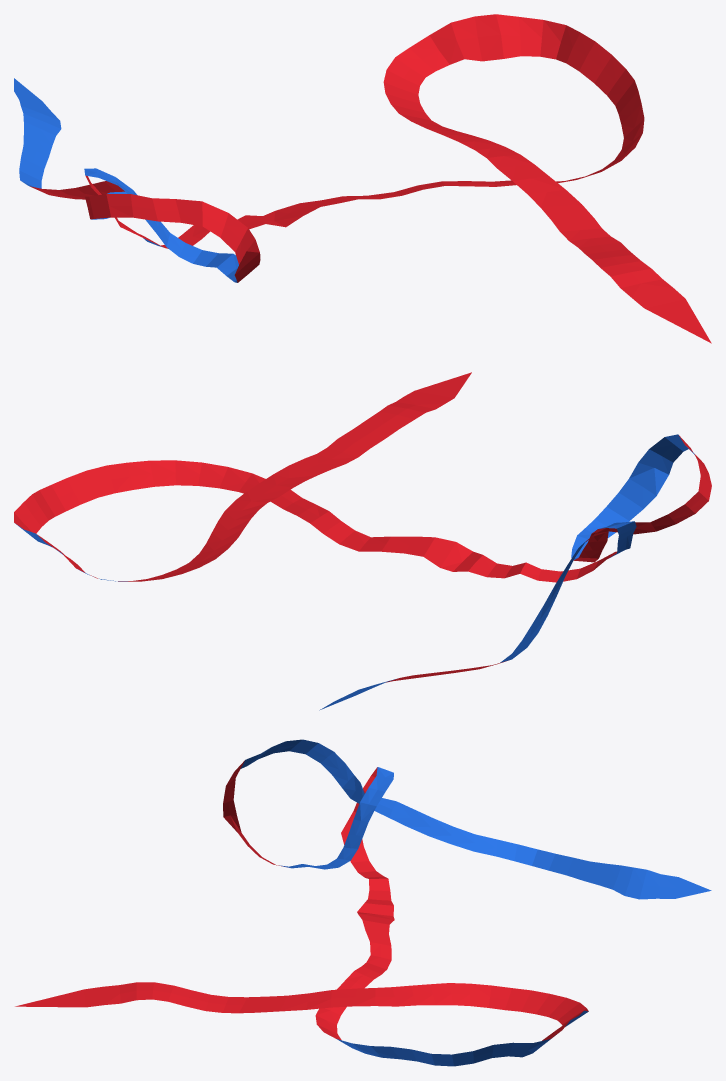
3 views of the same model, one above another, from view 1: azimuth 30°, elevation 25°; view 2: azimuth 150°, elevation 25°; view 3: azimuth 270°, elevation 25° (orthographic). The views are drawn at different scales.
Parts seen in each view (by area): view 1: 1049; view 2: 1049; view 3: 1049.
Boxes of the visible parts, x1=… form: 1049: x1=14, y1=14, x2=711, y2=343; 1049: x1=14, y1=372, x2=711, y2=710; 1049: x1=15, y1=739, x2=711, y2=1066.
Bounding box in the file's own units: 1.45 × 0.2839 × 1.75.
